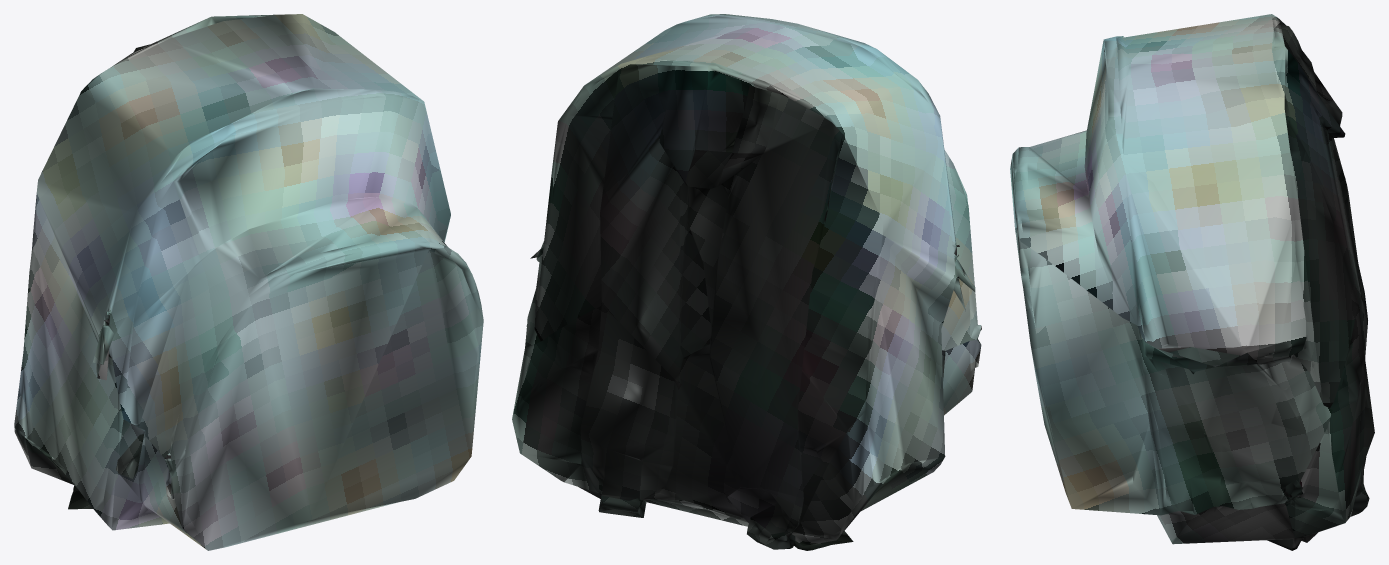
The model's file is Olive_Kids_Birdie_Pack_n_Snack-low.glb.
3 renders of one model, left to right at view 1: azimuth 30°, elevation 25°; view 2: azimuth 150°, elevation 25°; view 3: azimuth 270°, elevation 25°, orthographic. The views are drawn at different scales.
Parts seen in each view (by area): view 1: Olive_Kids_Birdie_Pack_n_Snack; view 2: Olive_Kids_Birdie_Pack_n_Snack; view 3: Olive_Kids_Birdie_Pack_n_Snack.
Part boxes in pixels (<box>): Olive_Kids_Birdie_Pack_n_Snack: <box>14,14,483,550</box>; Olive_Kids_Birdie_Pack_n_Snack: <box>512,14,981,550</box>; Olive_Kids_Birdie_Pack_n_Snack: <box>1010,14,1374,550</box>.
Bounding box in the file's own units: 0.2805 × 0.3201 × 0.2406.
Materials: 1 (1 with a texture image).
